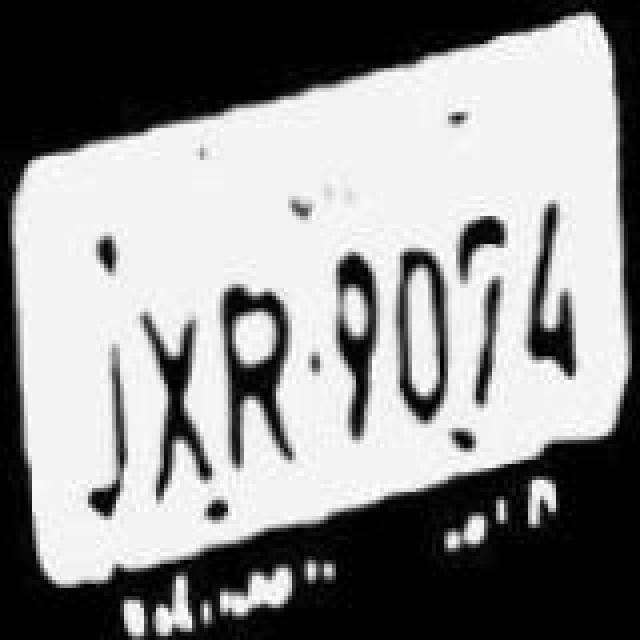4: (512, 178, 588, 430)
7: (444, 194, 520, 438)
9: (310, 238, 386, 494)
J: (56, 330, 132, 542)
O: (382, 204, 454, 440)
R: (206, 266, 298, 502)
X: (132, 294, 216, 522)
